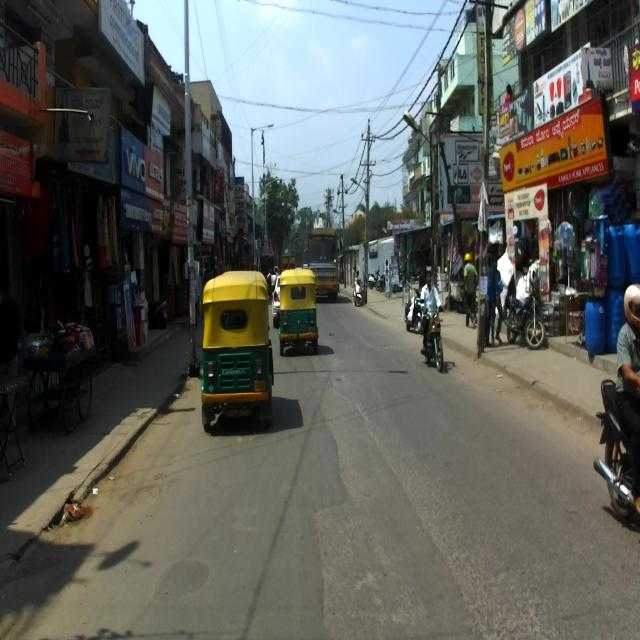auto ahead at: (199, 271, 272, 430), (278, 271, 319, 352)
electric pole ahead at: (172, 0, 203, 378)
